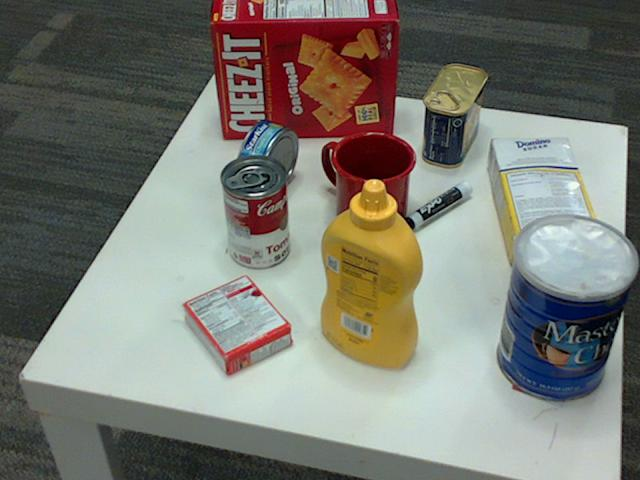cracker_box: (212, 0, 398, 136)
gelatin_box: (179, 274, 288, 376)
large_marker: (390, 184, 473, 238)
master_chef_can: (499, 215, 639, 402)
mug: (321, 129, 415, 233)
mustard_bottle: (320, 180, 422, 368)
potted_meat_can: (421, 65, 485, 168)
sugar_box: (487, 137, 602, 266)
tomato_soup_can: (220, 155, 289, 269)
tuna_fish_can: (234, 119, 297, 198)
